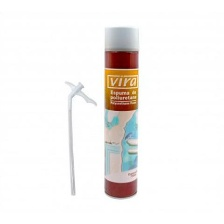aerosol_cans: (98, 22, 141, 203)
